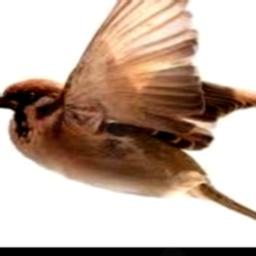Sparrow: (0, 0, 256, 237)
